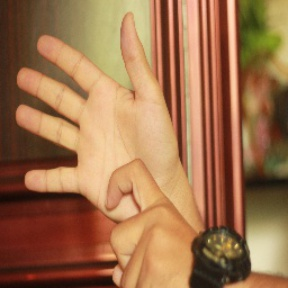R: (16, 11, 200, 288)
